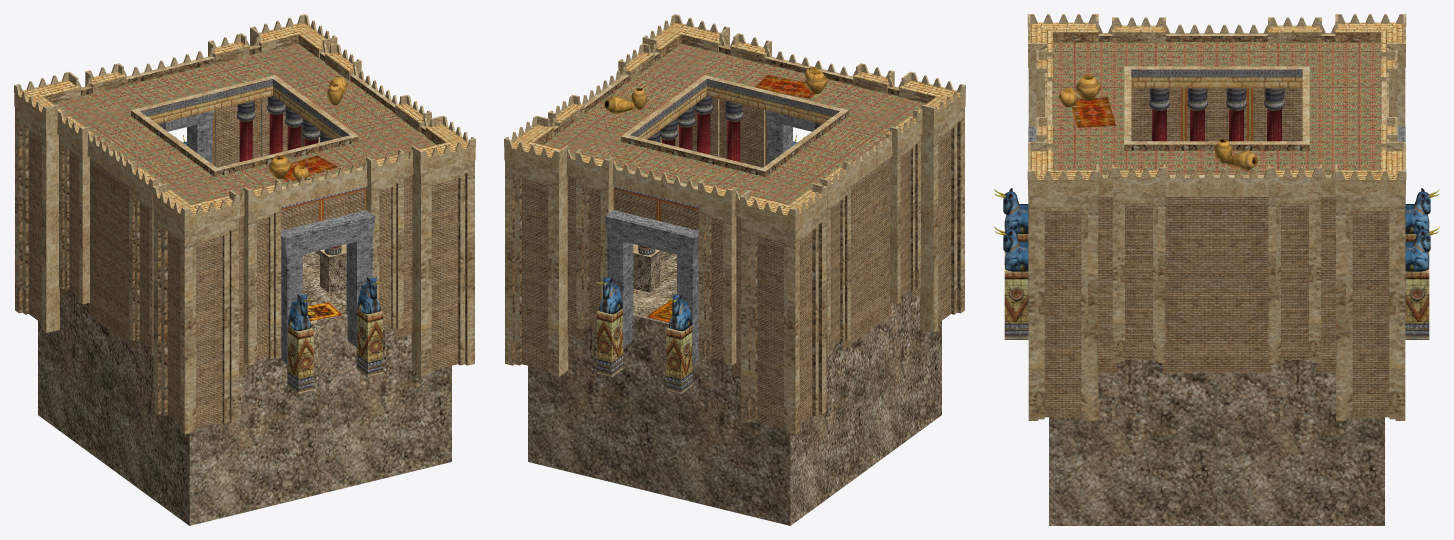
File: s_persians_hall_palace.glb
The picture shows the model from 3 angles, left to right: view 1: azimuth 30°, elevation 25°; view 2: azimuth 150°, elevation 25°; view 3: azimuth 270°, elevation 25°; orthographic projection. The views are drawn at different scales.
Parts seen in each view (by area): view 1: s_persians_hall_palace_part0; view 2: s_persians_hall_palace_part0; view 3: s_persians_hall_palace_part0.
Part boxes in pixels (bbox=[...]): s_persians_hall_palace_part0: bbox=[14, 14, 475, 525]; s_persians_hall_palace_part0: bbox=[504, 14, 965, 525]; s_persians_hall_palace_part0: bbox=[994, 14, 1439, 525].
Bounding box in the file's own units: 5.02 × 5.42 × 6.
Materials: 1 (1 with a texture image).
